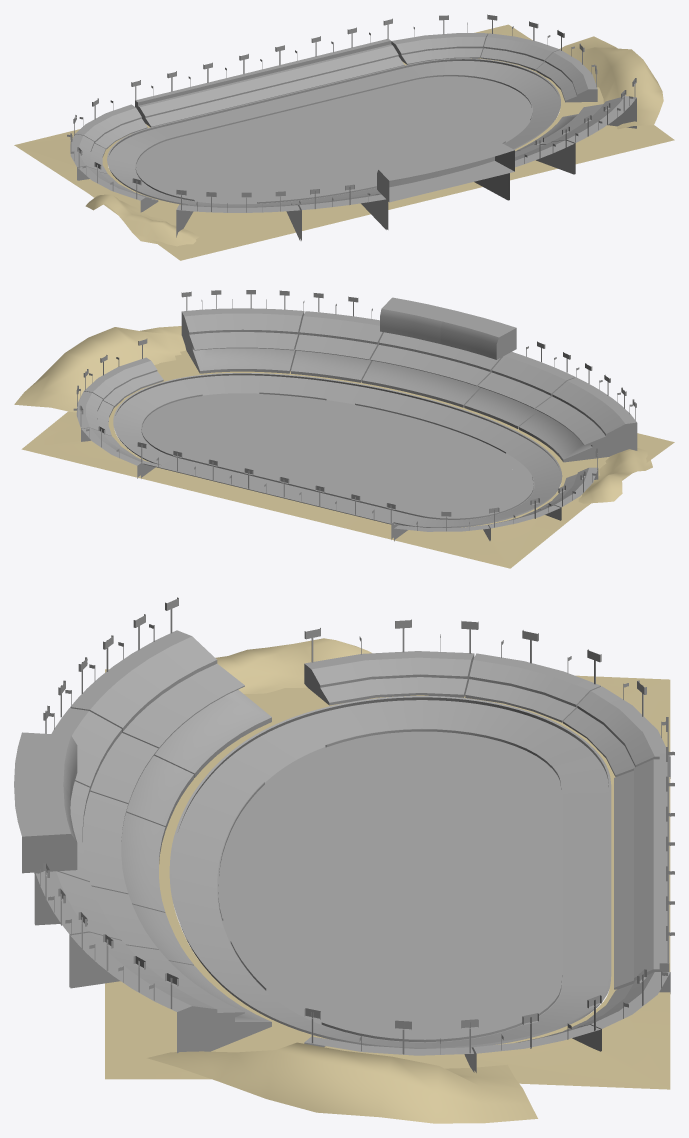
Rendered from Track_Weekly_Stadium.fbx.
3 renders of one model, top to bottom at view 1: azimuth 30°, elevation 25°; view 2: azimuth 150°, elevation 25°; view 3: azimuth 270°, elevation 25°, orthographic. The views are drawn at different scales.
Parts seen in each view (by area): view 1: polySurface220, polySurface349, polySurface223, polySurface348, polySurface221, polySurface350; view 2: polySurface220, polySurface349, polySurface223, polySurface348, polySurface221, polySurface350; view 3: polySurface220, polySurface349, polySurface223, polySurface348, polySurface221, polySurface350.
Part boxes in pixels (<box>): polySurface220: <box>108,61,559,205</box>; polySurface349: <box>70,33,636,240</box>; polySurface223: <box>14,24,674,260</box>; polySurface348: <box>377,140,514,202</box>; polySurface221: <box>107,58,560,204</box>; polySurface350: <box>135,74,532,203</box>; polySurface220: <box>114,375,560,526</box>; polySurface349: <box>76,308,637,541</box>; polySurface223: <box>14,326,674,568</box>; polySurface348: <box>380,297,516,359</box>; polySurface221: <box>113,373,562,527</box>; polySurface350: <box>141,392,533,519</box>; polySurface220: <box>172,700,608,1047</box>; polySurface349: <box>34,630,670,1072</box>; polySurface223: <box>105,638,670,1123</box>; polySurface348: <box>14,732,77,873</box>; polySurface221: <box>169,696,611,1048</box>; polySurface350: <box>218,728,562,1042</box>.
Size of the model in its own units: 30703 by 3122 by 18322.
